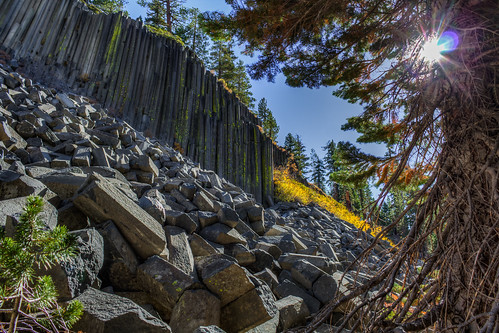rocks: (1, 87, 373, 333)
vegetation: (250, 11, 499, 333)
